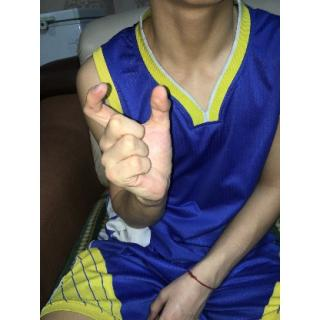NOON: (80, 79, 178, 207)
